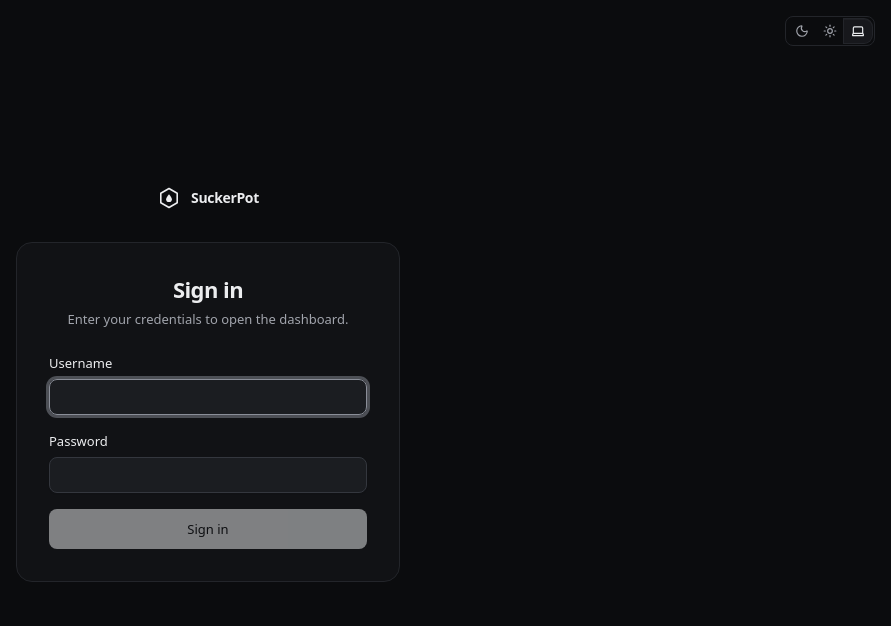
Test: auth flow › shows one message for a bad login and keeps the username
Type "admin" into the field labelled "Username".
click(208, 397); type("admin")  # box top-left (49, 379), bottom-right (367, 415)
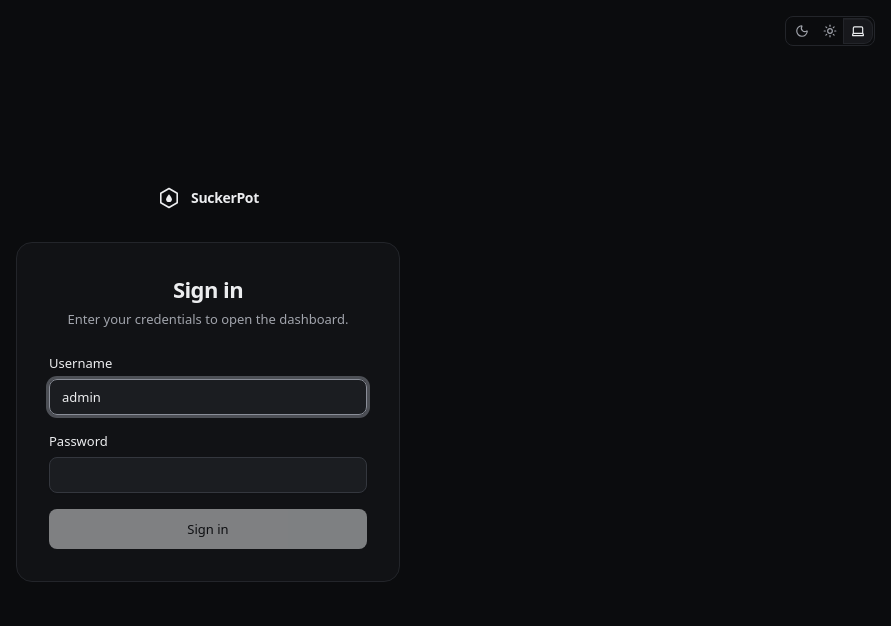
Type "bad" into the password field labelled "Password".
click(208, 475); type("bad")  # box top-left (49, 457), bottom-right (367, 493)
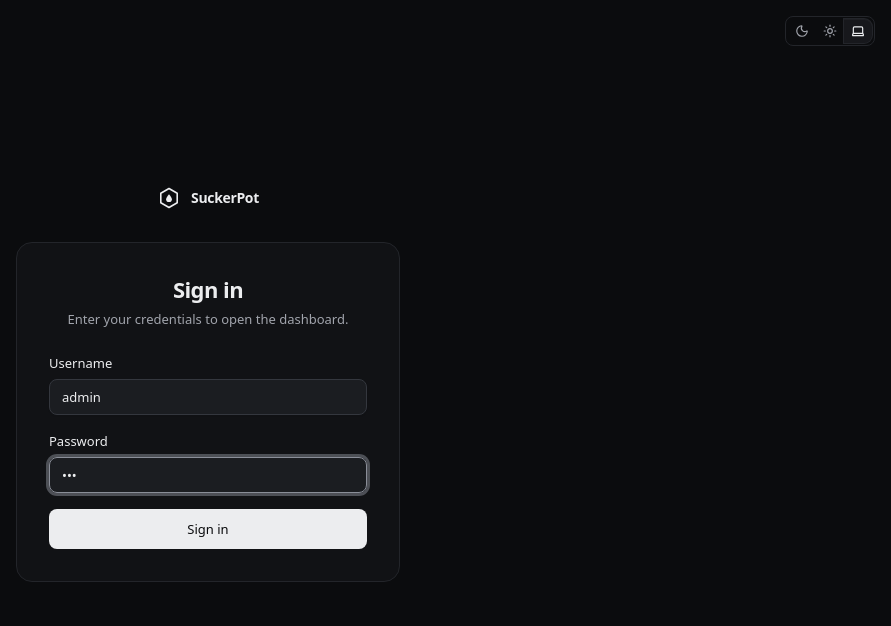
Click the button "Sign in".
click(208, 529)  # box top-left (49, 509), bottom-right (367, 549)
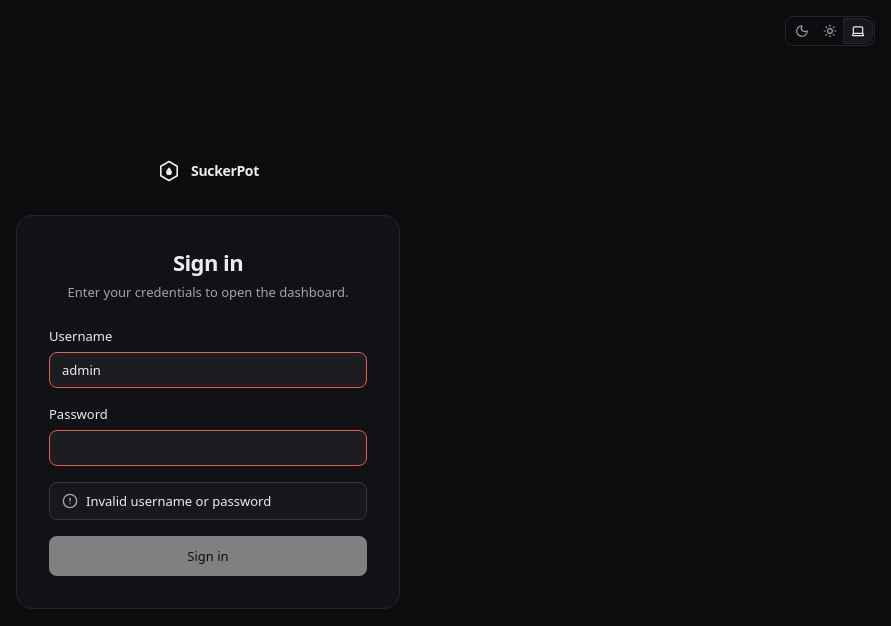
Now the message reads "Invalid username or password", box top-left (86, 492), bottom-right (271, 510)
Now the password field labelled "Password" is empty, box top-left (49, 430), bottom-right (367, 466)
